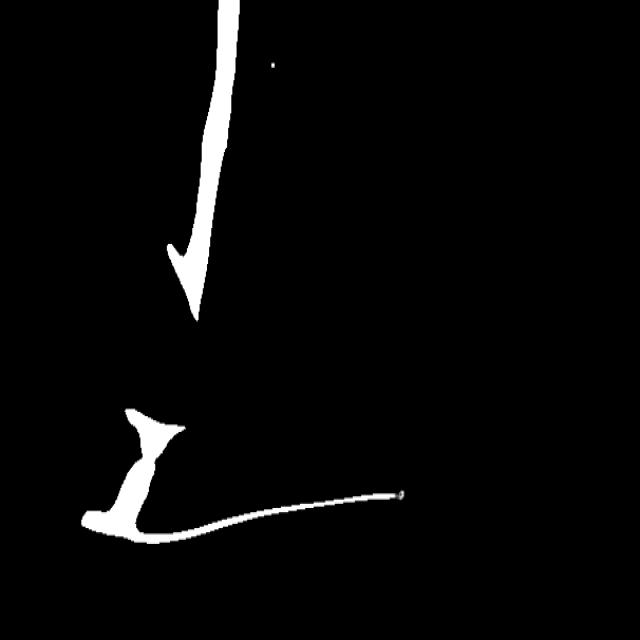stp: (386, 488, 411, 504)
